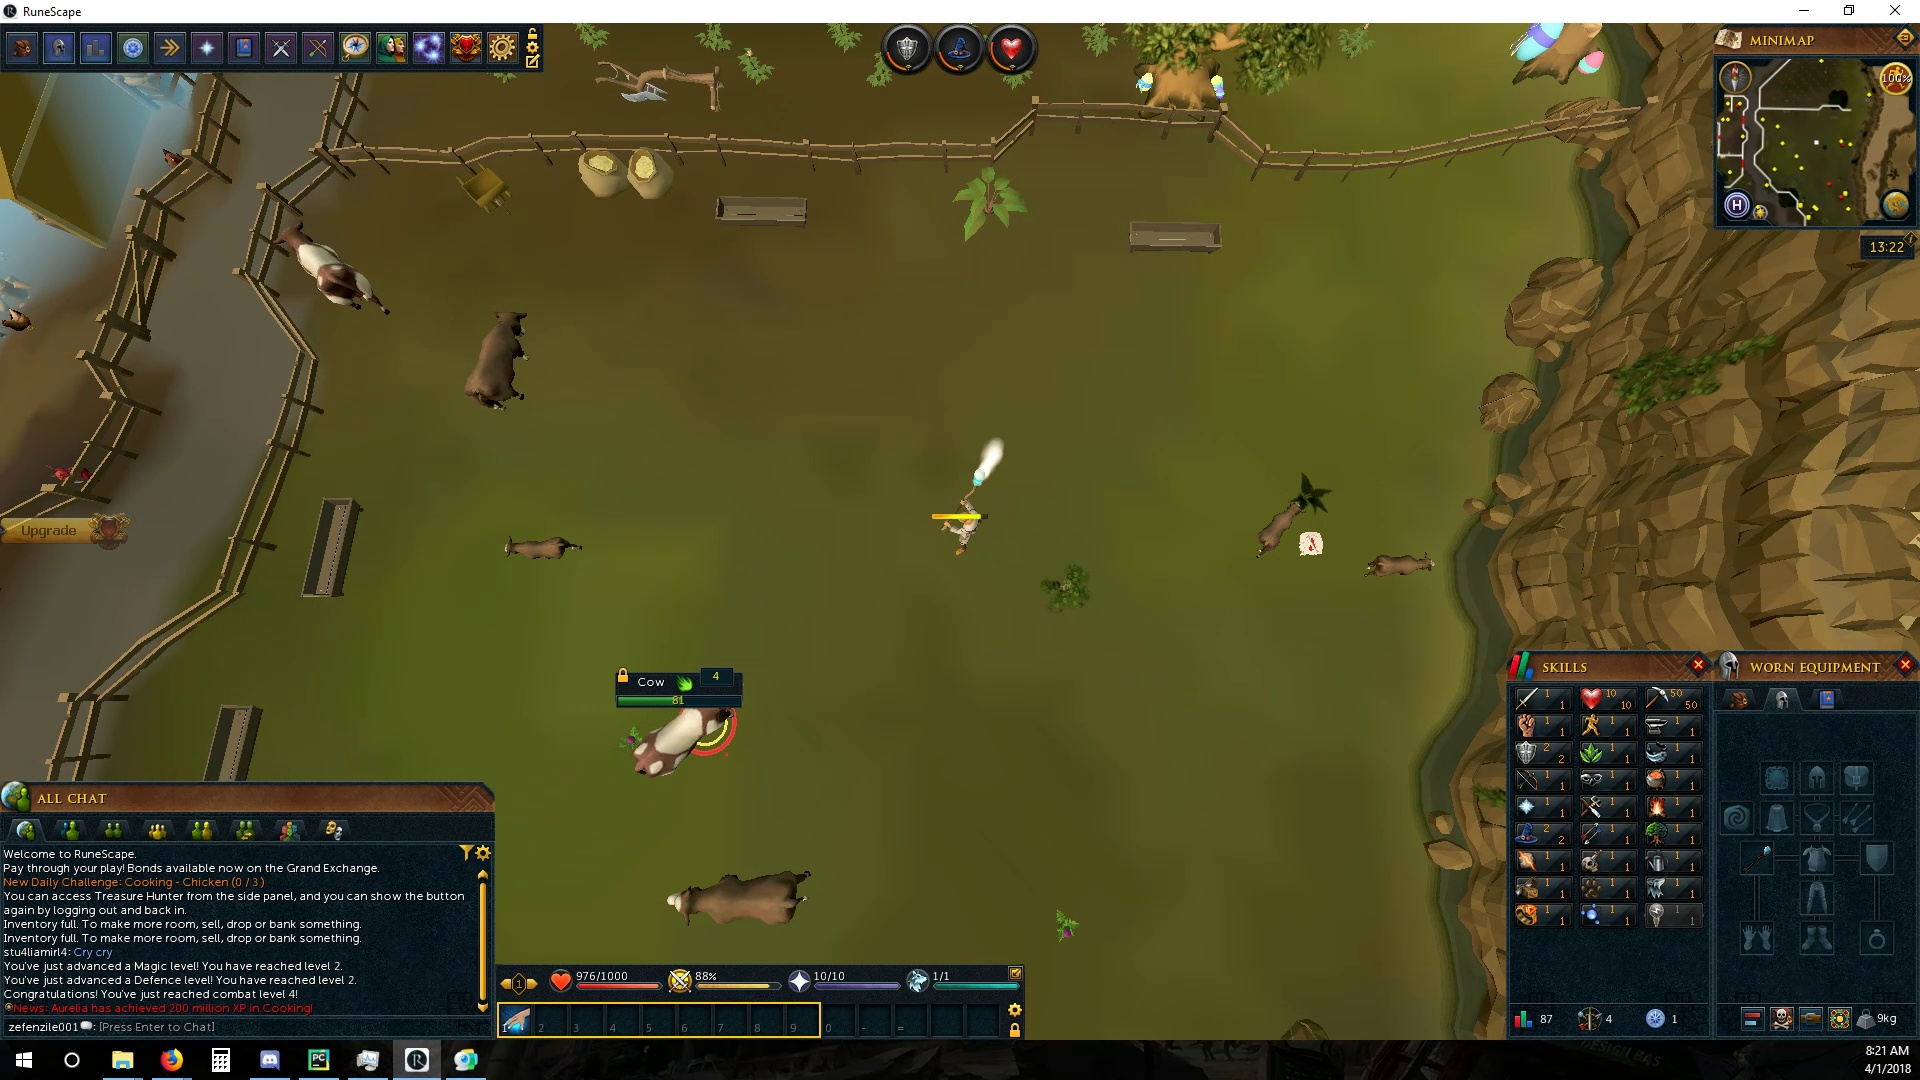calf: (1249, 496, 1311, 560), (500, 534, 585, 566), (1364, 550, 1436, 582)
cow: (276, 223, 402, 322), (665, 865, 815, 932), (624, 707, 738, 785), (463, 309, 531, 413)
cow_drop: (1302, 529, 1327, 560)
